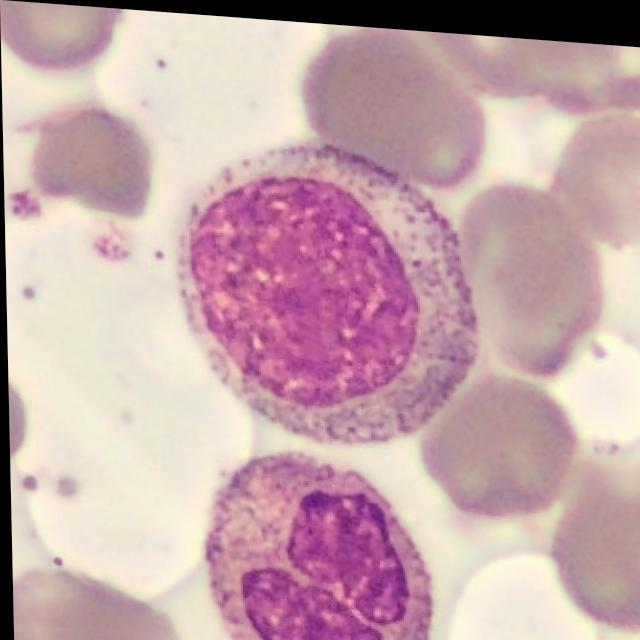Mielocito: (175, 136, 478, 438)
Neutrofilo segmentado: (201, 446, 428, 640)
